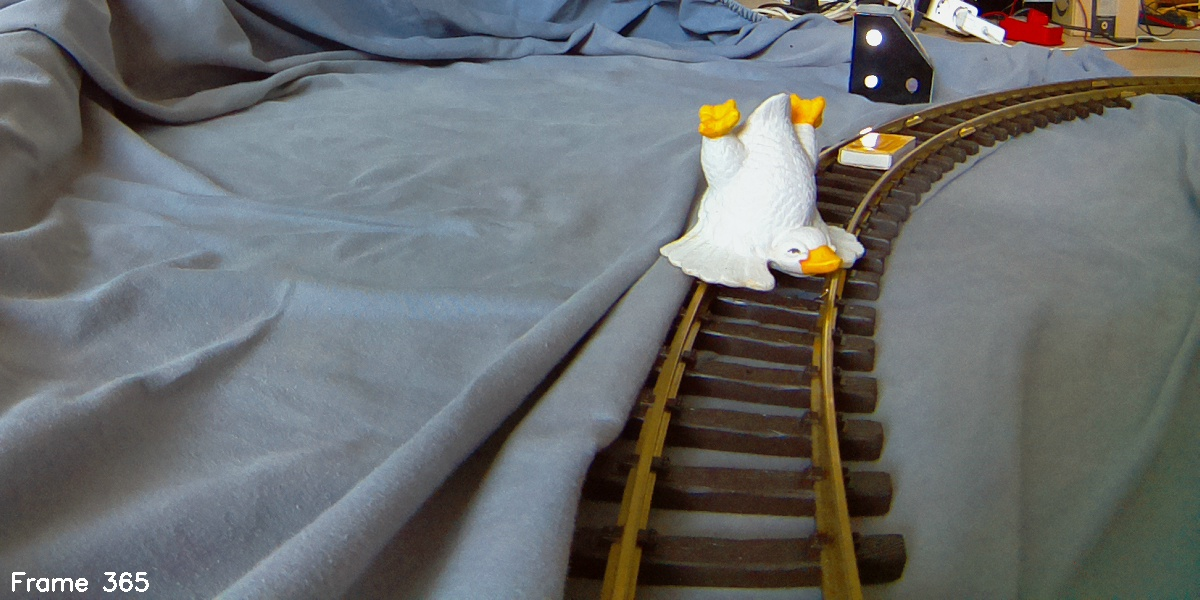Ente: (657, 89, 877, 302)
Fahrt: (850, 4, 936, 110)
